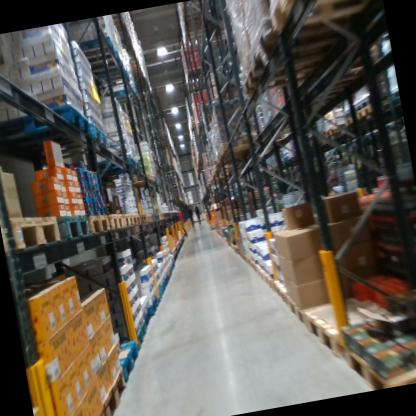pallet: (231, 27, 391, 101), (234, 4, 389, 79), (300, 276, 416, 362), (0, 96, 94, 149), (19, 118, 116, 168), (342, 326, 416, 391), (269, 0, 384, 31), (3, 208, 67, 259), (50, 200, 96, 250), (215, 126, 274, 164), (96, 361, 135, 416), (111, 331, 143, 387), (90, 152, 138, 179), (351, 99, 384, 126), (88, 207, 112, 243), (107, 205, 126, 240), (288, 294, 305, 327), (116, 205, 133, 231), (84, 398, 108, 416), (341, 112, 361, 132), (326, 122, 345, 141), (129, 207, 143, 228), (138, 209, 146, 229)
